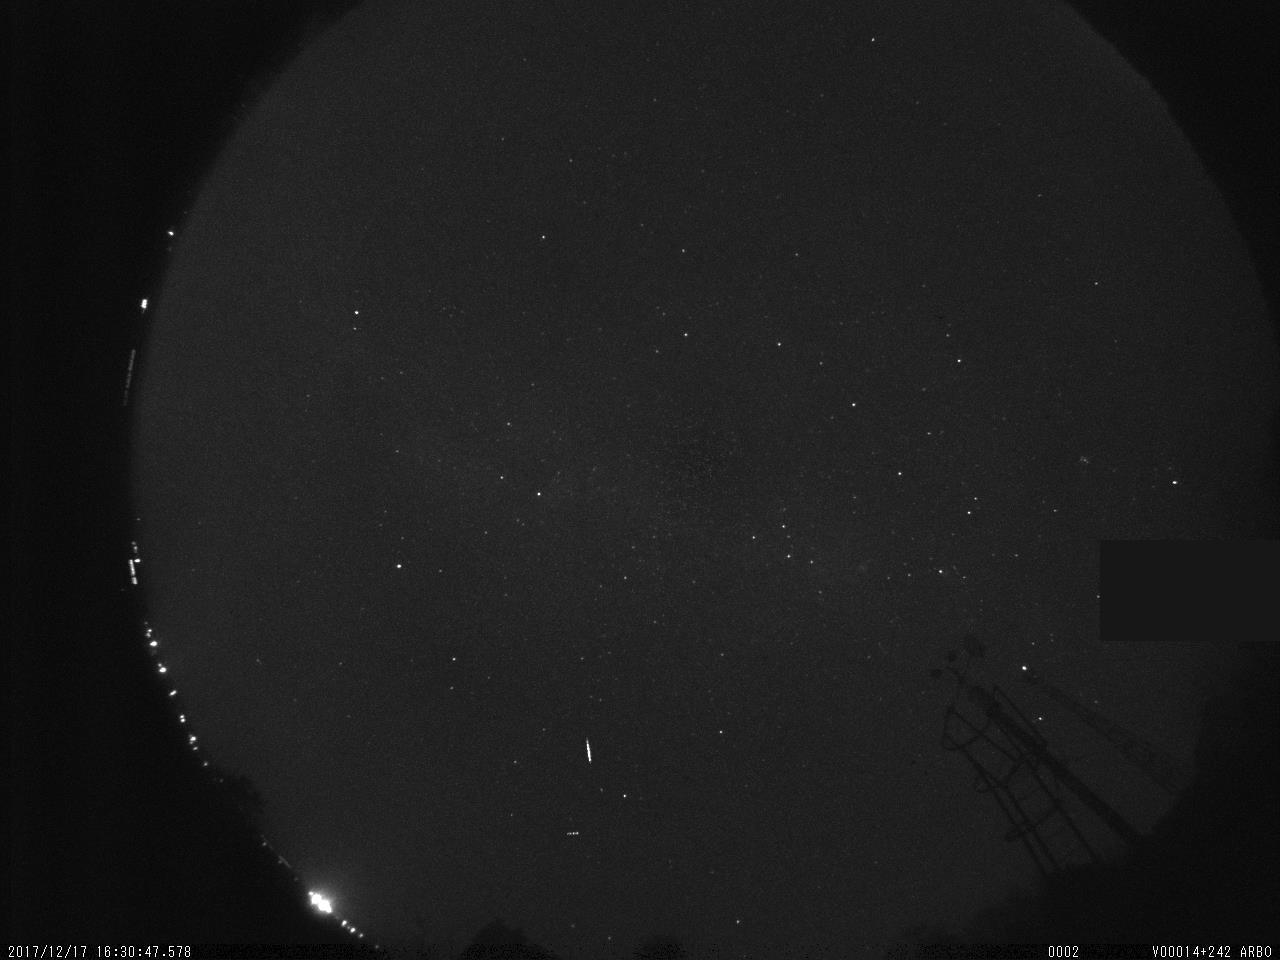meteor: (559, 712, 609, 781)
